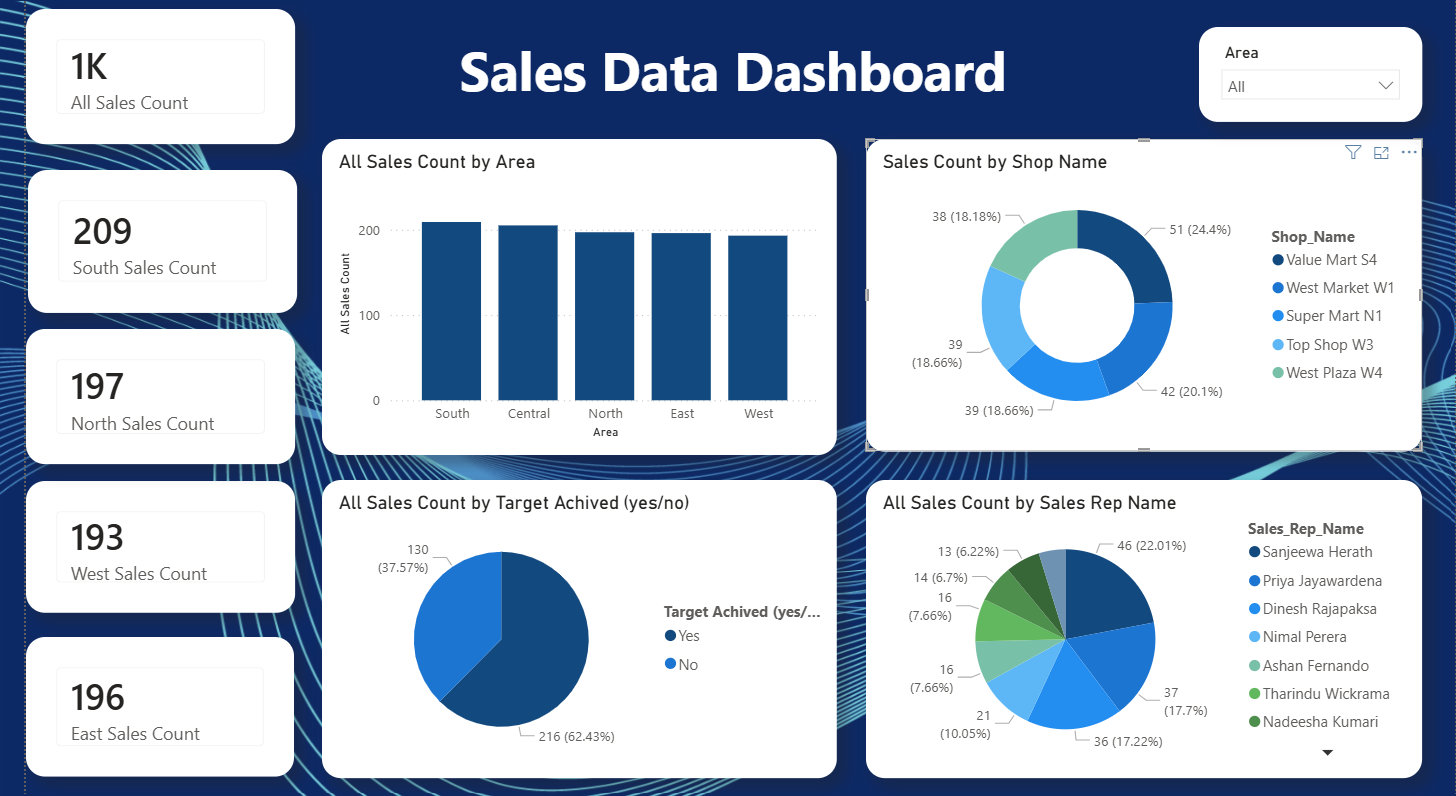

What the dashboard file says about the page in this screenshot:
{"tool":"powerbi","page":{"name":"Page 1","canvas":[1280,720],"ordinal":0},"visuals":[{"type":"cardVisual","fields":{"Data":["SalesRepData.East Sales Count"]},"box":[0,11.3,241.3,121.4],"z":0},{"type":"cardVisual","fields":{"Data":["SalesRepData.East Sales Count"]},"box":[0,573.8,240,125],"z":1000},{"type":"cardVisual","fields":{"Data":["SalesRepData.West Sales Count"]},"box":[0,434,241.3,118.2],"z":2000},{"type":"clusteredColumnChart","fields":{"Y":["SalesRepData.All Sales Count"],"Category":["pp_df.Area"]},"box":[264.8,127.8,461.1,283.3],"z":3000},{"type":"cardVisual","fields":{"Data":["SalesRepData.South Sales Count"]},"box":[1.6,155.4,241.3,127.9],"z":4000},{"type":"cardVisual","fields":{"Data":["SalesRepData.North Sales Count"]},"box":[0,297.9,241.3,121.4],"z":5000},{"type":"donutChart","title":"Sales Count by Shop Name","fields":{"Y":["SalesRepData.Sales Count"],"Category":["pp_df.Shop_Name"]},"box":[751.9,127.8,498.1,279.6],"z":6000},{"type":"pieChart","fields":{"Y":["SalesRepData.All Sales Count"],"Category":["pp_df.Target Achived (yes/no)"]},"box":[264.8,433.3,461.1,266.7],"z":7000},{"type":"pieChart","title":"All Sales Count by Sales Rep Name","fields":{"Y":["SalesRepData.All Sales Count"],"Category":["pp_df.Sales_Rep_Name"]},"box":[751.9,433.3,498.1,266.7],"z":8000},{"type":"textbox","box":[383.3,27.8,603.7,85.2],"z":9000},{"type":"slicer","fields":{"Values":["pp_df.Area"]},"box":[1050,27.8,200,85.2],"z":10000}]}

Visuals, with their boxes in screenshot pixels (x1, y1, x2, y2), scaled from the page's 1280x720 canvas onto the 1456x796 screenshot:
cardVisual - SalesRepData.East Sales Count: left=0, top=12, right=274, bottom=147
cardVisual - SalesRepData.East Sales Count: left=0, top=634, right=273, bottom=773
cardVisual - SalesRepData.West Sales Count: left=0, top=480, right=274, bottom=610
clusteredColumnChart - SalesRepData.All Sales Count x pp_df.Area: left=301, top=141, right=826, bottom=454
cardVisual - SalesRepData.South Sales Count: left=2, top=172, right=276, bottom=313
cardVisual - SalesRepData.North Sales Count: left=0, top=329, right=274, bottom=464
"Sales Count by Shop Name" donutChart: left=855, top=141, right=1422, bottom=450
pieChart - SalesRepData.All Sales Count x pp_df.Target Achived (yes/no): left=301, top=479, right=826, bottom=774
"All Sales Count by Sales Rep Name" pieChart: left=855, top=479, right=1422, bottom=774
textbox: left=436, top=31, right=1123, bottom=125
slicer - pp_df.Area: left=1194, top=31, right=1422, bottom=125
